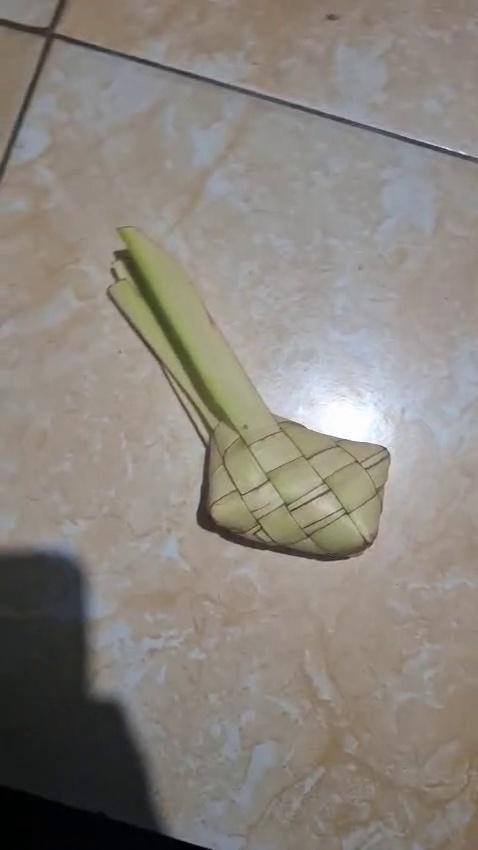Tipat Bantal: (103, 218, 388, 560)
